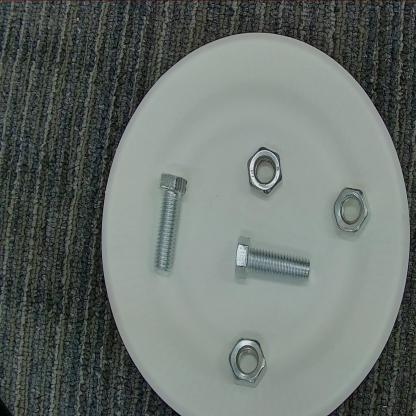FOD: (232, 228, 313, 291), (153, 163, 188, 278), (226, 331, 270, 391), (331, 182, 376, 240), (244, 140, 284, 199)
